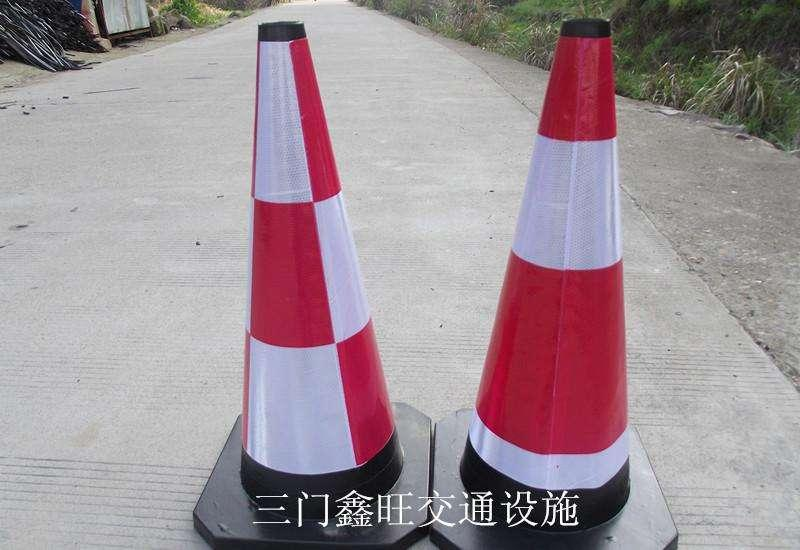sign: (438, 8, 684, 550), (196, 9, 438, 550)
